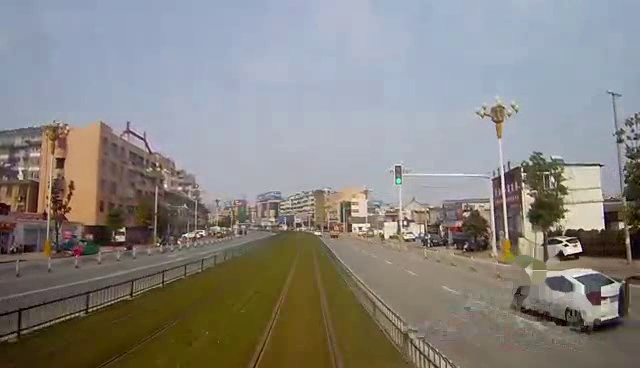car: (512, 271, 635, 328), (536, 232, 587, 265)
